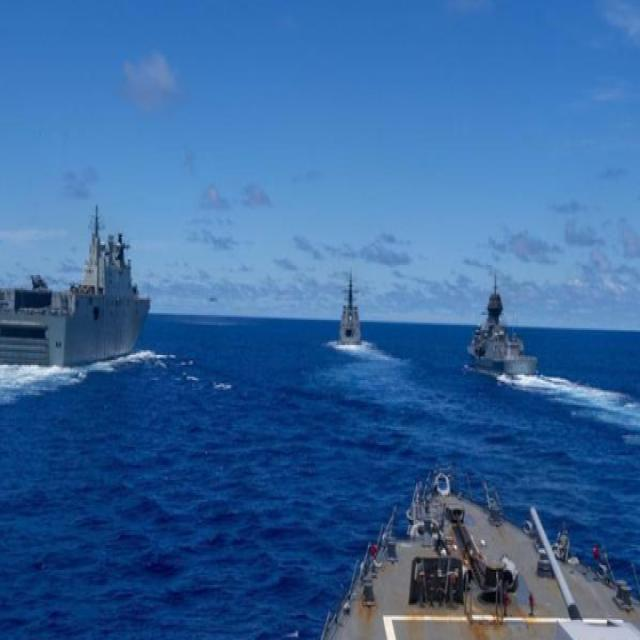navalvessels: (0, 183, 159, 372), (467, 277, 546, 384), (338, 266, 372, 351)
